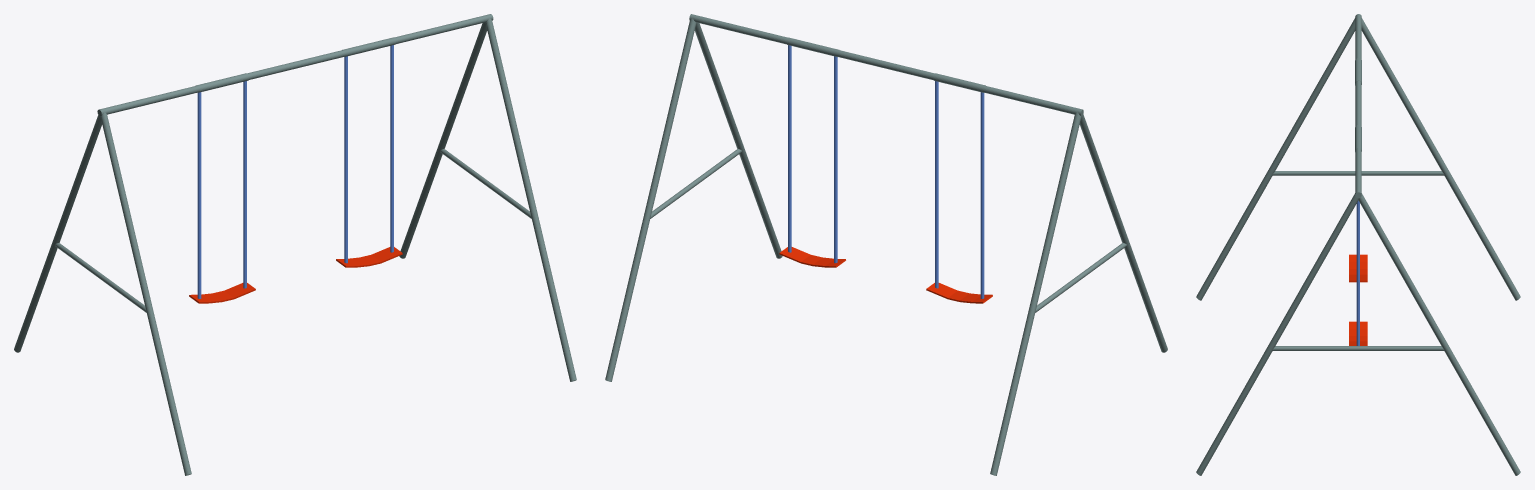
File: Swing Set.fbx
3 renders of one model, left to right at view 1: azimuth 30°, elevation 25°; view 2: azimuth 150°, elevation 25°; view 3: azimuth 270°, elevation 25°, orthographic. The views are drawn at different scales.
Parts seen in each view (by area): view 1: Cylinder, Cylinder.001, Cube; view 2: Cylinder, Cylinder.001, Cube; view 3: Cylinder, Cube, Cylinder.001.
Part boxes in pixels (x1,y1,x2,y2): Cylinder: (14, 14, 576, 475); Cylinder.001: (197, 45, 393, 298); Cube: (189, 247, 402, 303); Cylinder: (605, 14, 1167, 475); Cylinder.001: (788, 45, 984, 298); Cube: (779, 247, 992, 303); Cylinder: (1196, 14, 1520, 475); Cube: (1349, 254, 1367, 345); Cylinder.001: (1356, 200, 1359, 345).
Size of the model in its own units: 5299 by 3942 by 4068.
